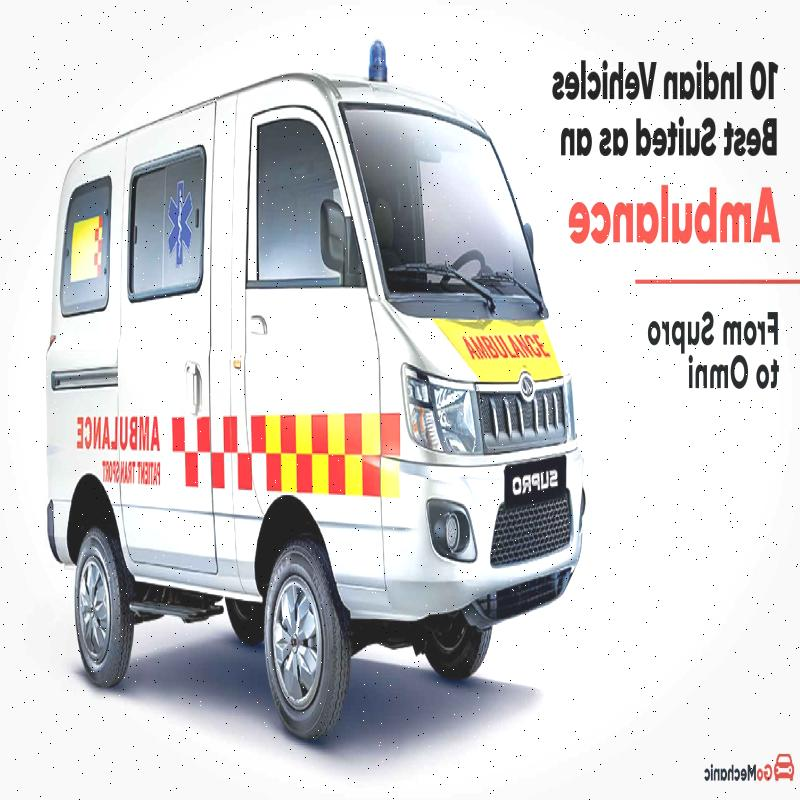ambulance: (2, 51, 616, 706)
